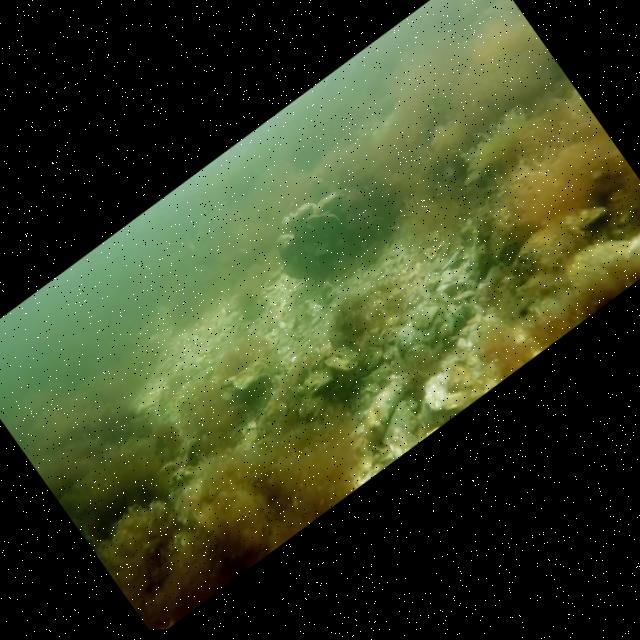Oyster-Closed: (296, 210, 342, 235), (315, 190, 347, 214), (295, 203, 316, 224)
Oyster-Indeterminate: (313, 246, 331, 259)
